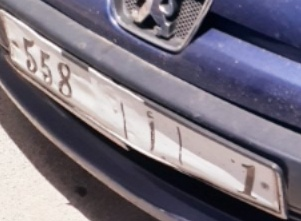1: (237, 161, 260, 201)
5: (21, 33, 37, 74), (40, 49, 54, 85)
8: (56, 62, 72, 97)
a: (143, 108, 159, 153)
